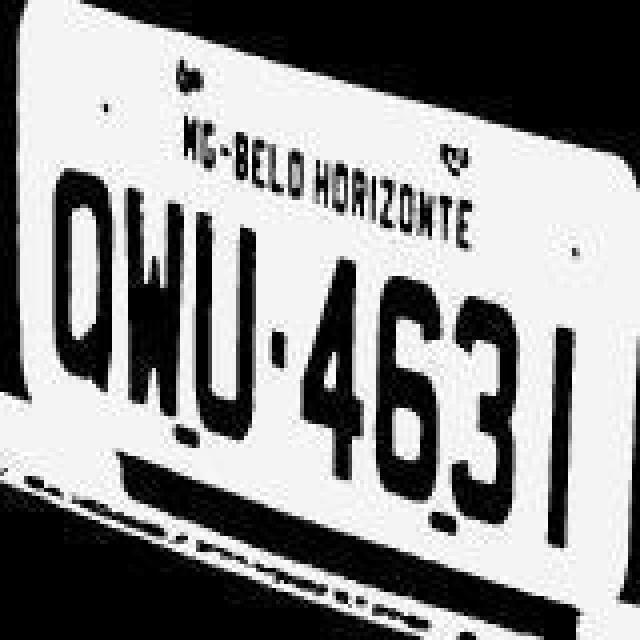1: (542, 300, 594, 564)
3: (450, 274, 526, 550)
4: (302, 238, 370, 498)
6: (368, 260, 448, 532)
Q: (42, 142, 126, 418)
U: (184, 198, 264, 474)
W: (114, 176, 190, 448)
